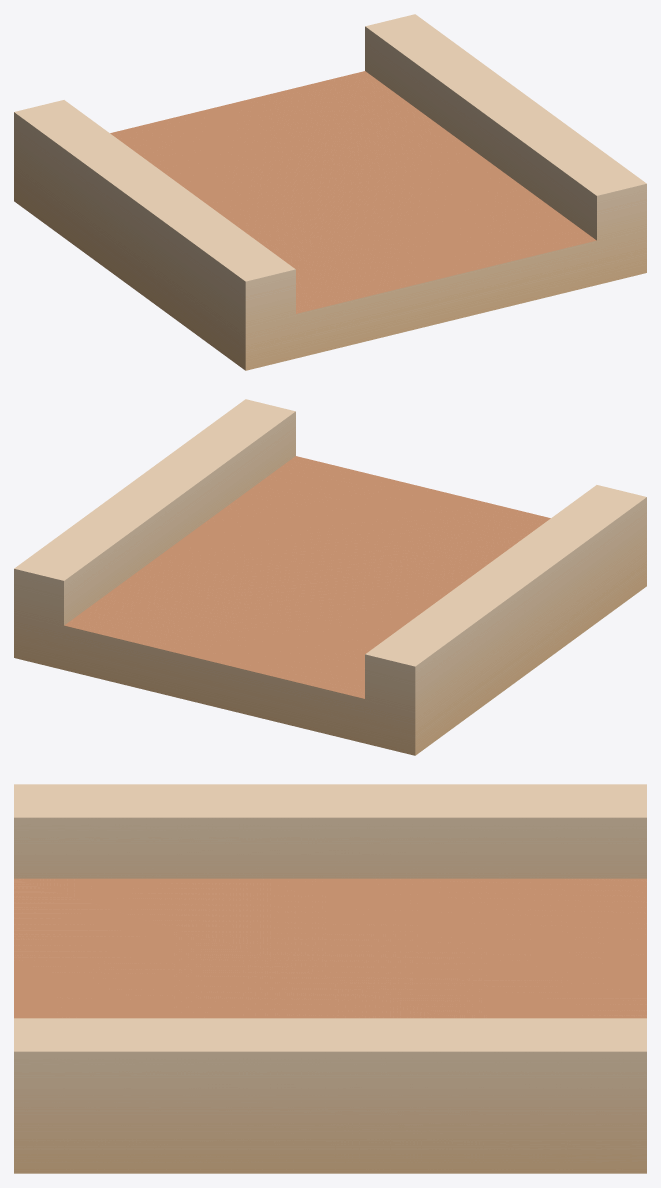
The picture shows the model from 3 angles, top to bottom: view 1: azimuth 30°, elevation 25°; view 2: azimuth 150°, elevation 25°; view 3: azimuth 270°, elevation 25°; orthographic projection. The views are drawn at different scales.
Parts seen in each view (by area): view 1: roof-flat-border-straight; view 2: roof-flat-border-straight; view 3: roof-flat-border-straight.
Part boxes in pixels (bbox=[...]): roof-flat-border-straight: bbox=[14, 14, 646, 370]; roof-flat-border-straight: bbox=[14, 399, 646, 755]; roof-flat-border-straight: bbox=[14, 784, 646, 1173].
Size of the model in its own units: 1 by 0.2125 by 1.
Materials: 1 (1 with a texture image).
